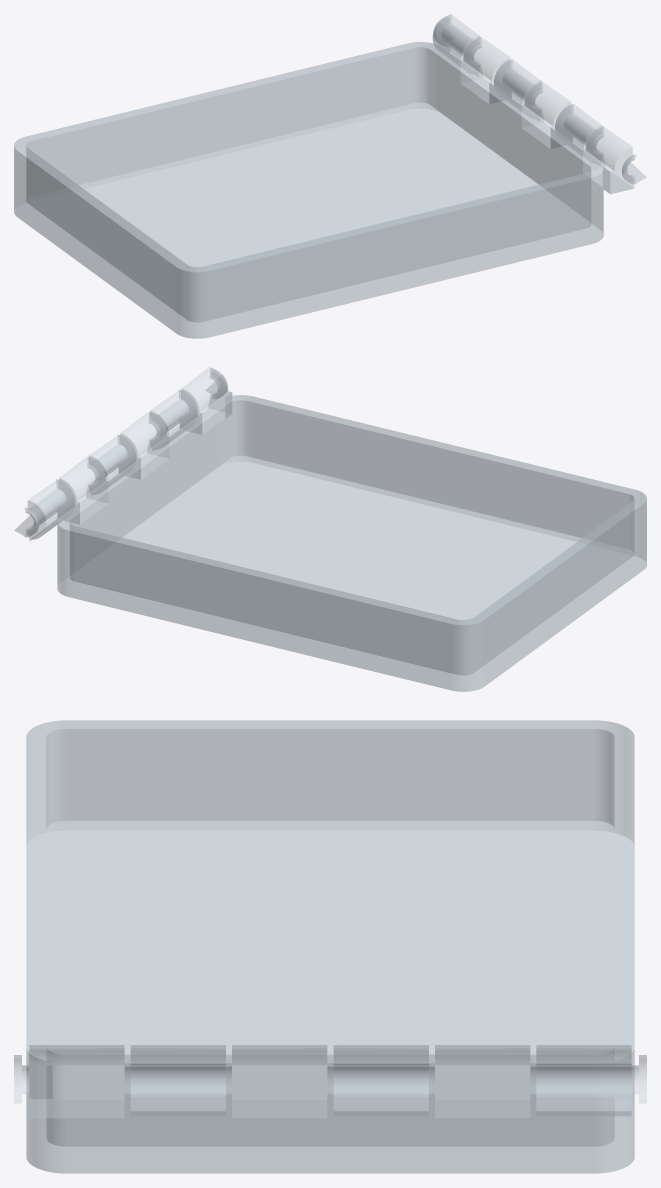
File: spring-box-base.glb
3 renders of one model, top to bottom at view 1: azimuth 30°, elevation 25°; view 2: azimuth 150°, elevation 25°; view 3: azimuth 270°, elevation 25°, orthographic. The views are drawn at different scales.
Visible parts, largest first — view 1: spring-box-base; view 2: spring-box-base; view 3: spring-box-base.
Boxes of the visible parts, left/top/right/bottom form: spring-box-base: left=14, top=14, right=646, bottom=338; spring-box-base: left=14, top=367, right=646, bottom=691; spring-box-base: left=14, top=720, right=646, bottom=1173.
Bounding box in the file's own units: 85.78 × 15.5 × 62.4.
